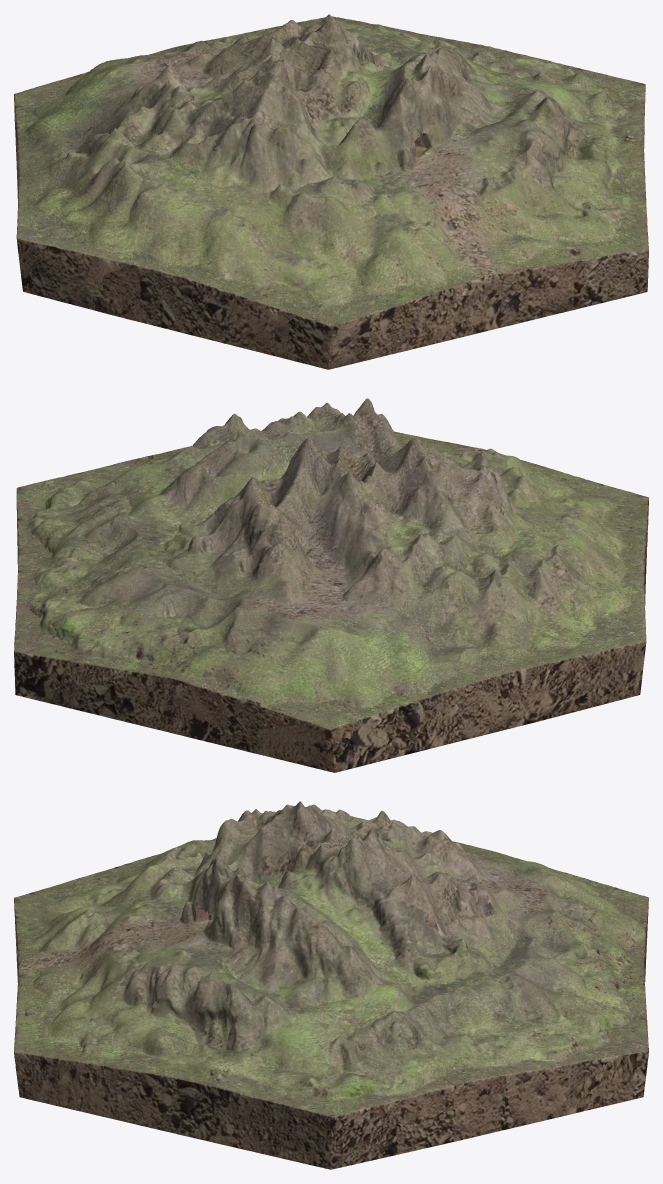
Rendered from mountain.glb.
3 renders of one model, top to bottom at view 1: azimuth 30°, elevation 25°; view 2: azimuth 150°, elevation 25°; view 3: azimuth 270°, elevation 25°, orthographic.
Bounding box in the file's own units: 1.9 × 0.5419 × 1.66.
Materials: 1 (1 with a texture image).
